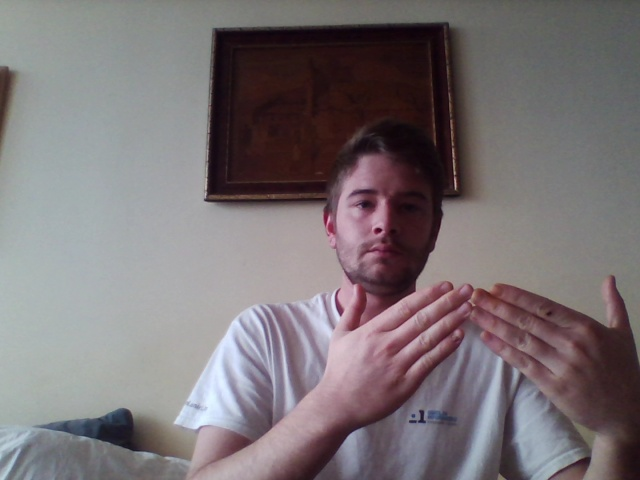hvala: (327, 273, 634, 426)
